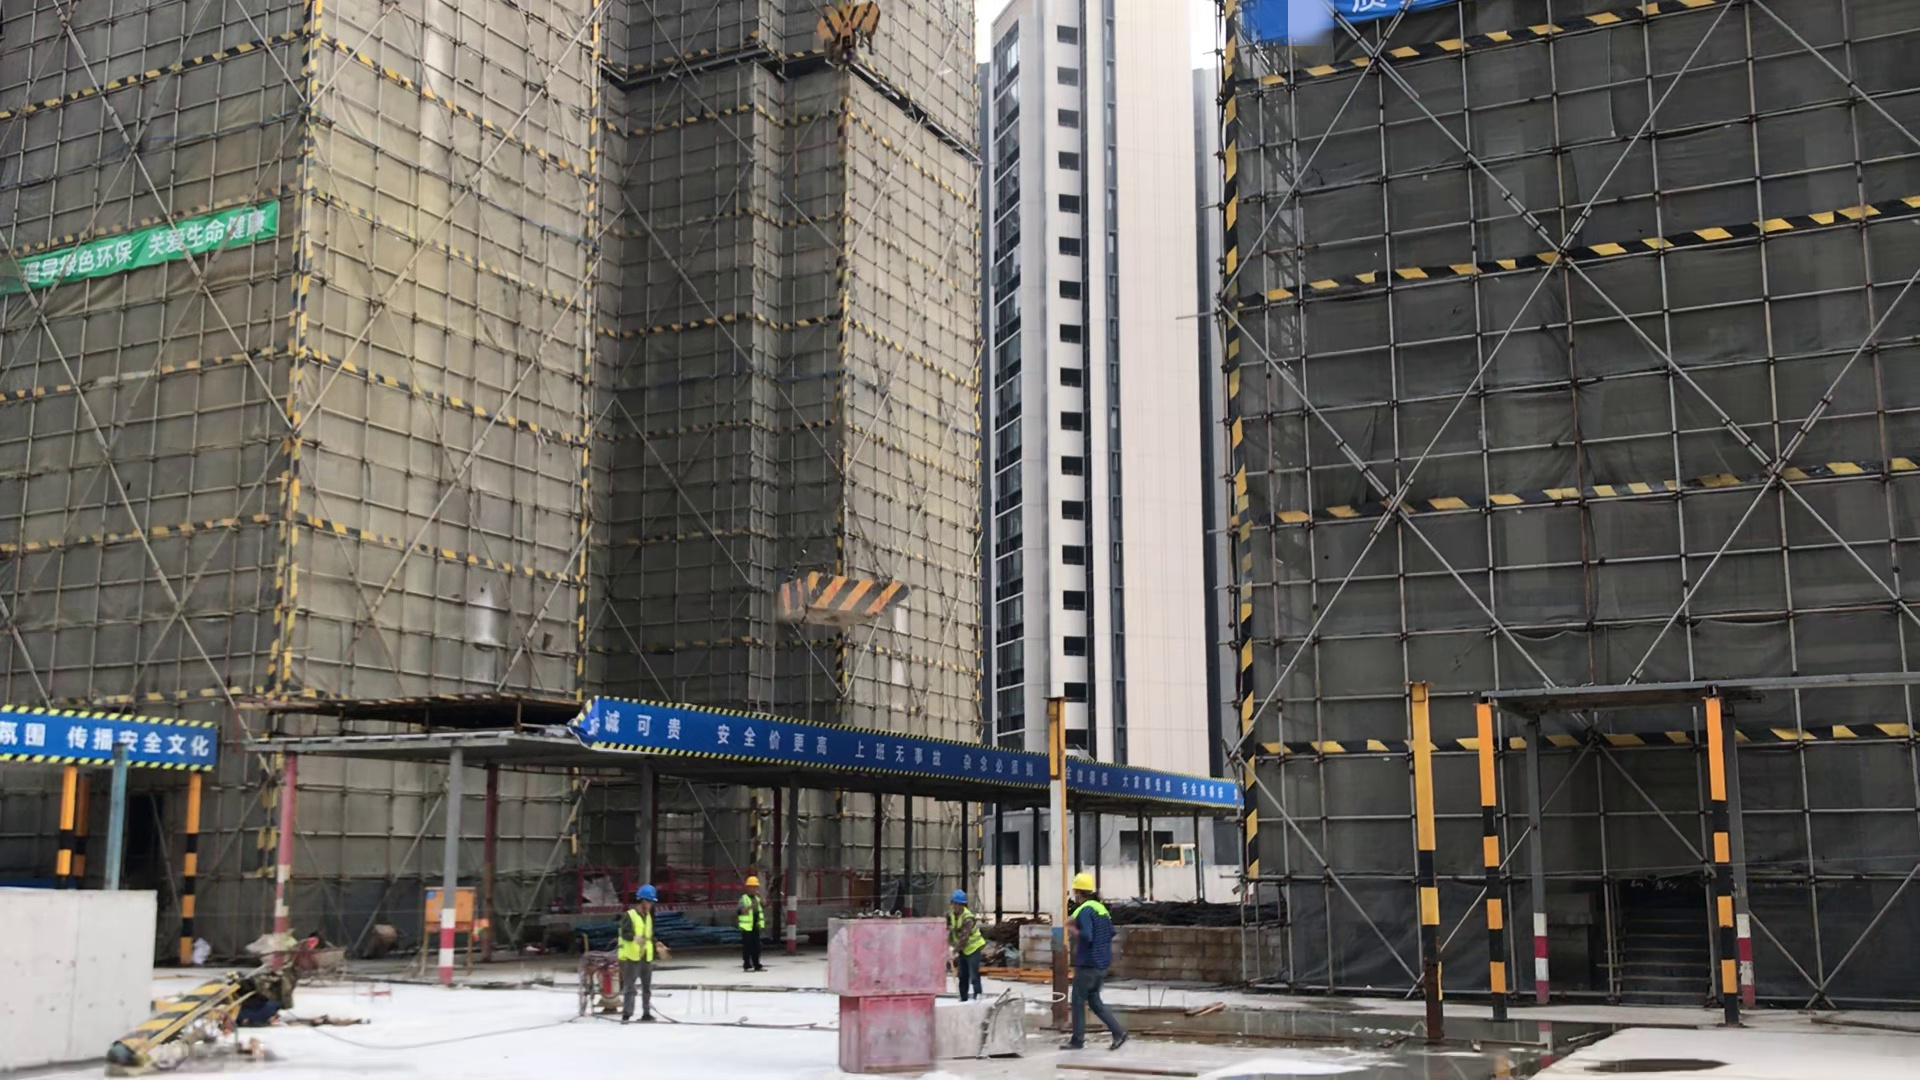ebox: (426, 886, 479, 933)
fence: (582, 864, 886, 912)
helmet: (1068, 873, 1099, 894), (633, 883, 660, 905), (949, 888, 971, 905), (743, 873, 763, 887)
hook: (810, 1, 878, 81)
hopper: (767, 568, 915, 634)
person: (1056, 874, 1129, 1057), (614, 883, 675, 1026), (936, 887, 992, 999), (728, 871, 775, 974)
slogan: (592, 700, 1248, 811), (1, 194, 292, 295), (15, 711, 227, 772)
vest: (945, 915, 986, 954), (623, 908, 653, 960), (736, 895, 765, 932)
